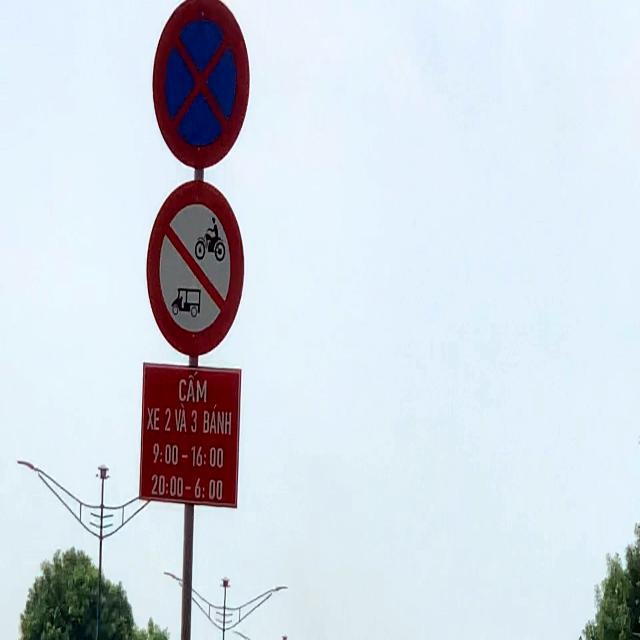P.130: (152, 0, 250, 171)
